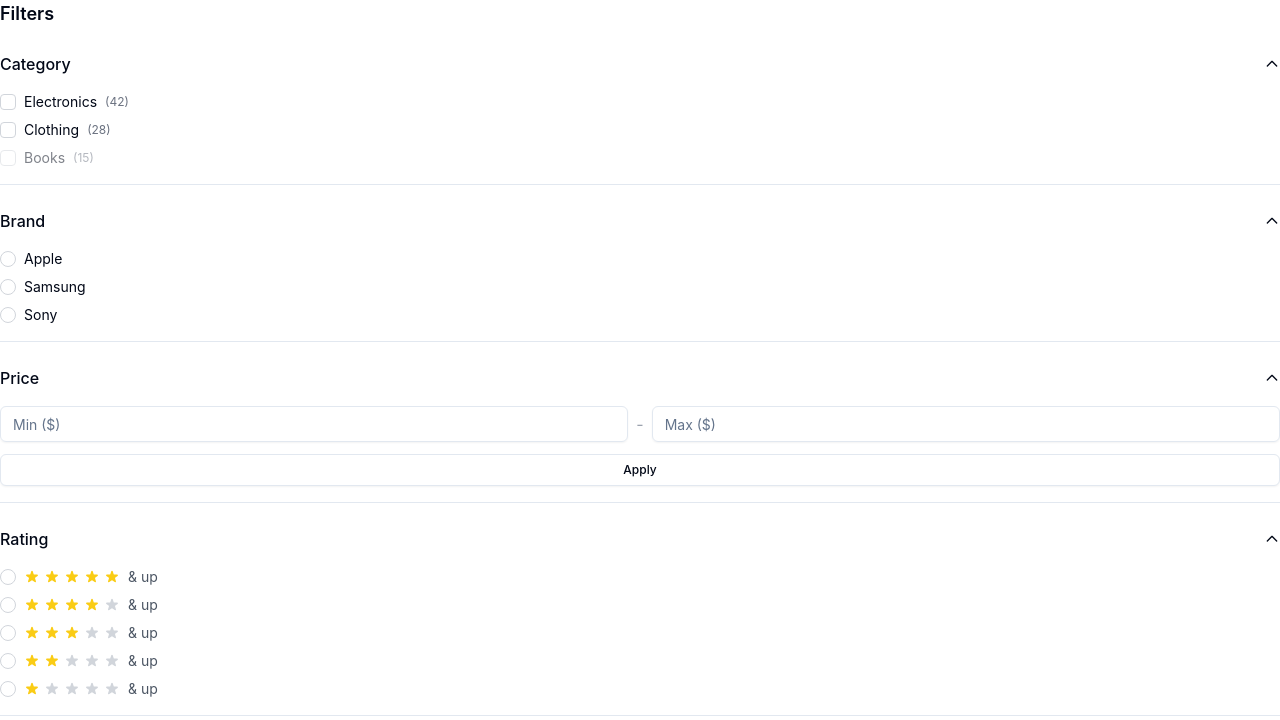
Test: FilterPanel › should show clear all button when filters are active
This screenshot has width=1280, height=720.
// Select a filter
What coordinates should you click on to do the following:
click the checkbox with test id "filter-option-category-electronics"
I would click on:
 (8, 102)
Its box is [0,94,16,110].
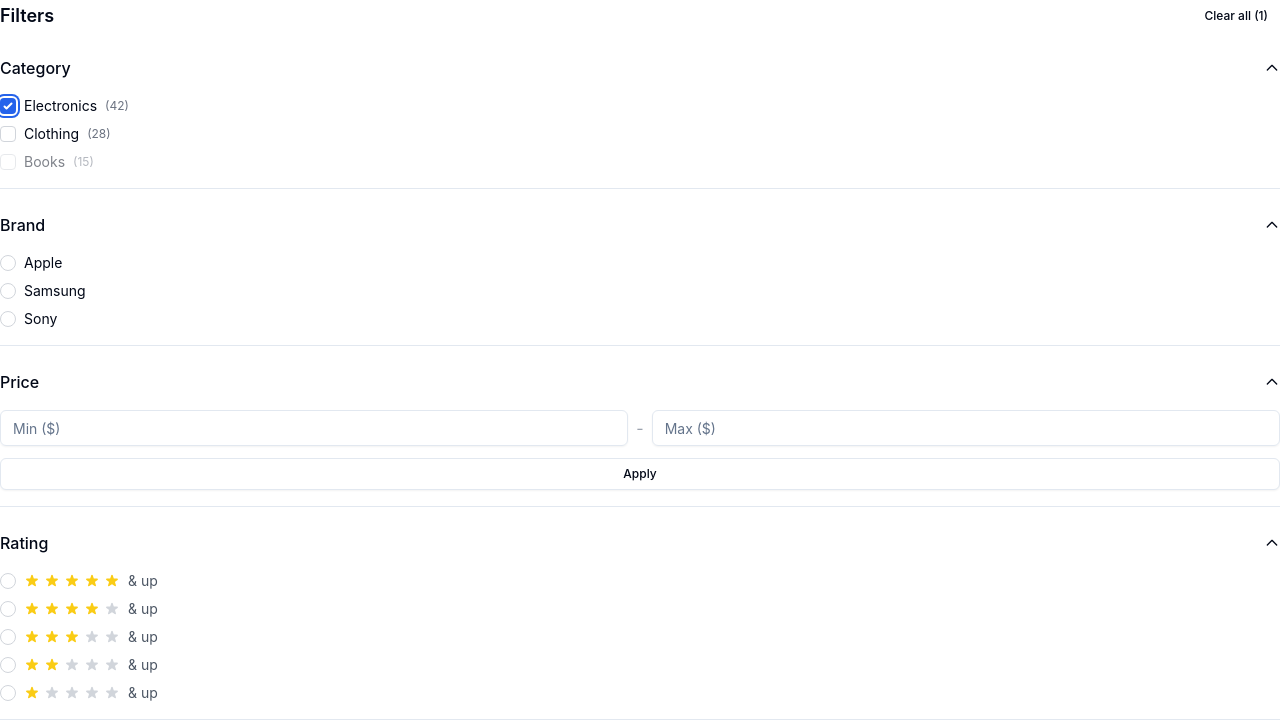
Now the button with test id "clear-all-filters" is shown, box [1192,0,1279,32]
